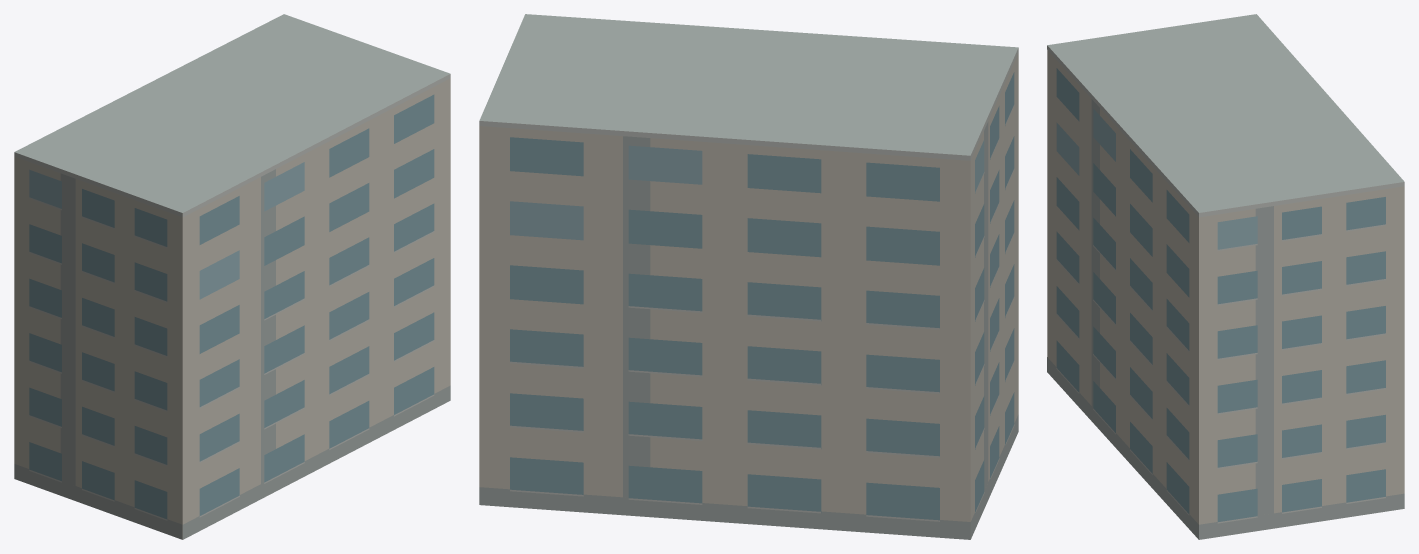
Rendered from survey-upis-32954061.glb.
The picture shows the model from 3 angles, left to right: view 1: azimuth 30°, elevation 25°; view 2: azimuth 150°, elevation 25°; view 3: azimuth 270°, elevation 25°; orthographic projection. The views are drawn at different scales.
Visible parts, largest first — view 1: survey-upis-32954061.tmp; view 2: survey-upis-32954061.tmp; view 3: survey-upis-32954061.tmp.
Boxes of the visible parts, bbox=[...] form: survey-upis-32954061.tmp: bbox=[14, 14, 450, 539]; survey-upis-32954061.tmp: bbox=[479, 14, 1018, 539]; survey-upis-32954061.tmp: bbox=[1047, 14, 1404, 539].
Bounding box in the file's own units: 23.9 × 18.3 × 18.15.
